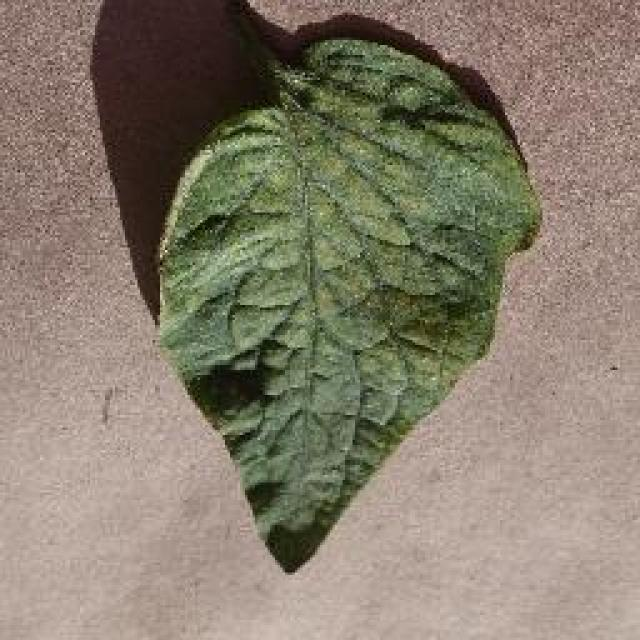Tomato___Spider_mites Two-spotted_spider_mite: (158, 0, 540, 570)
